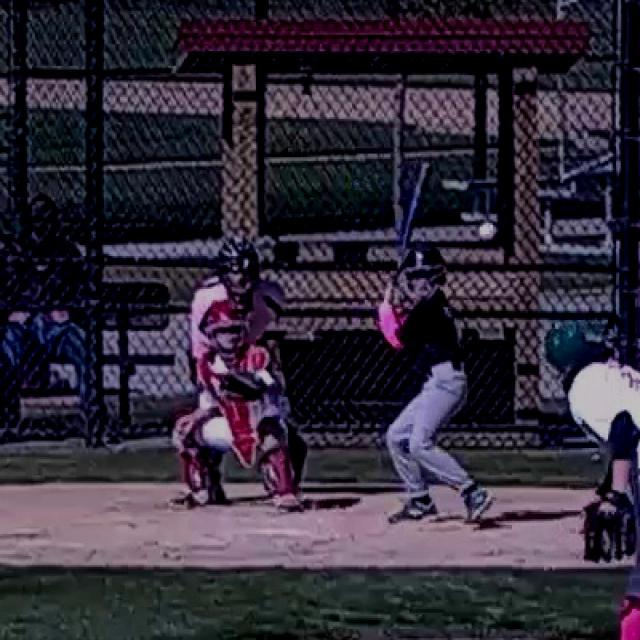baseball: (480, 224, 494, 238)
